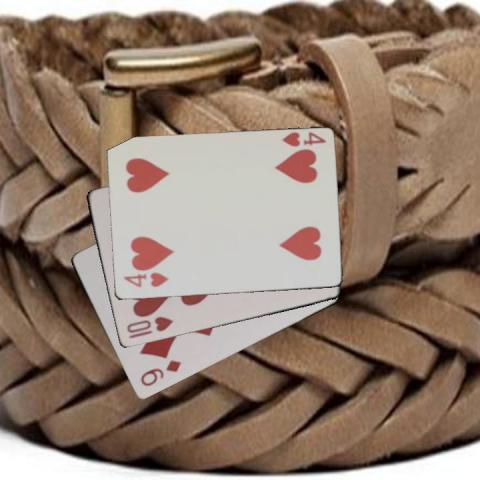10h: (123, 313, 175, 341)
4h: (280, 129, 328, 149), (121, 271, 169, 289)
9d: (137, 357, 183, 389)
